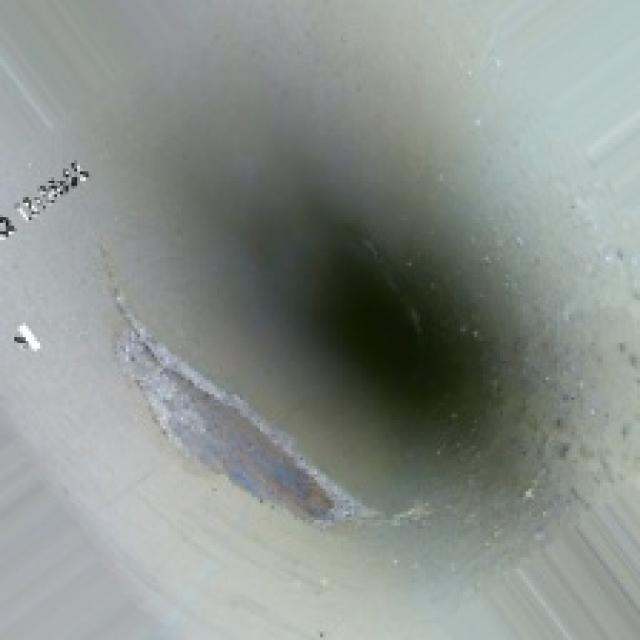pipe_surface_damage: (103, 274, 386, 557)
